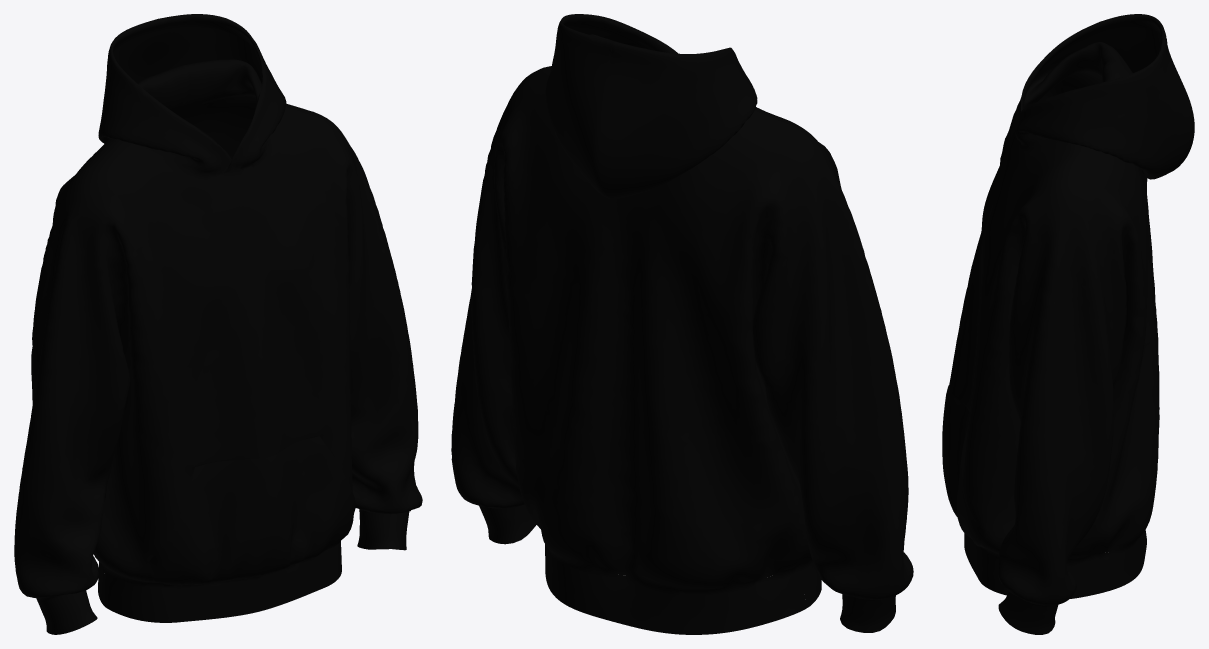
Rendered from 3dmodel-2.gltf.
The picture shows the model from 3 angles, left to right: view 1: azimuth 30°, elevation 25°; view 2: azimuth 150°, elevation 25°; view 3: azimuth 270°, elevation 25°; orthographic projection. The views are drawn at different scales.
Visible parts, largest first — view 1: 3Dmodelexport; view 2: 3Dmodelexport; view 3: 3Dmodelexport.
Part boxes in pixels (x1=…): 3Dmodelexport: x1=14, y1=14, x2=422, y2=634; 3Dmodelexport: x1=451, y1=14, x2=913, y2=634; 3Dmodelexport: x1=942, y1=14, x2=1194, y2=634.
Size of the model in its own units: 6.48 by 8.2 by 3.63.
1 material, 1 textured.
